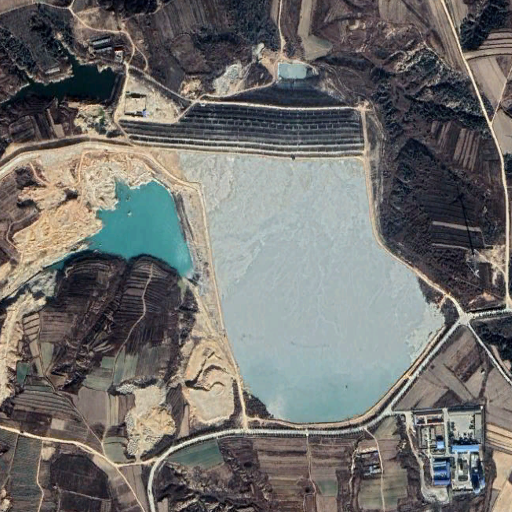tp: (124, 87, 445, 427)
